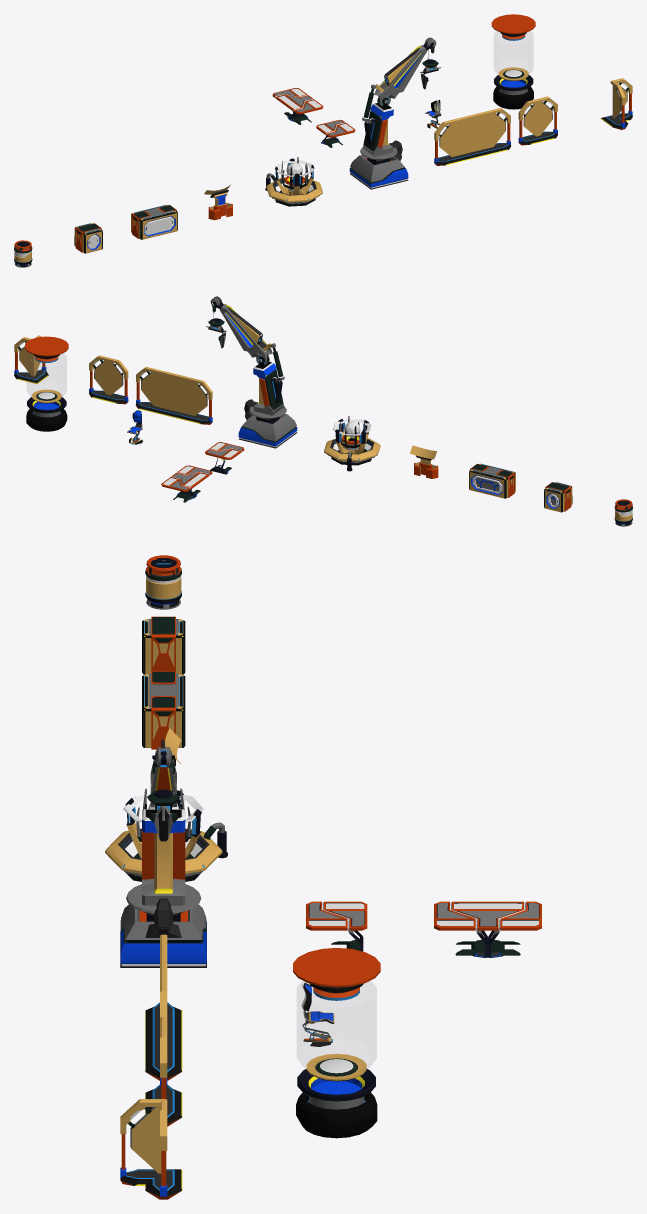
Rendered from ColonyFactory_Deco00.FBX.
3 renders of one model, top to bottom at view 1: azimuth 30°, elevation 25°; view 2: azimuth 150°, elevation 25°; view 3: azimuth 270°, elevation 25°, orthographic. The views are drawn at different scales.
Parts seen in each view (by area): view 1: Cylinder016, Box003, Box010, Cylinder011, Box014, Cylinder001, Box011, Box019, Box015, Box002, Box006, Box018 (+4 smaller); view 2: Cylinder016, Box003, Box010, Cylinder011, Box014, Cylinder001, Box011, Box019, Box015, Box002, Box006, Box018 (+4 smaller); view 3: Cylinder016, Box010, Box019, Box011, Cylinder011, Box014, Box015, Box001, Box018, Cylinder014, Box008, Box009 (+2 smaller).
Part boxes in pixels (x1,y1,x2,y2): Cylinder016: [491, 14, 535, 109]; Box003: [440, 113, 505, 156]; Box010: [349, 140, 408, 189]; Cylinder011: [266, 158, 322, 206]; Box014: [131, 204, 177, 239]; Cylinder001: [374, 41, 433, 106]; Box011: [363, 99, 393, 156]; Box019: [272, 88, 323, 124]; Box015: [74, 223, 102, 253]; Box002: [434, 108, 510, 163]; Box006: [524, 102, 551, 136]; Box018: [316, 119, 355, 147]; Cylinder016: [25, 336, 68, 431]; Box003: [141, 372, 206, 415]; Box010: [238, 399, 297, 448]; Cylinder011: [324, 419, 380, 465]; Box014: [469, 463, 515, 498]; Cylinder001: [213, 300, 272, 365]; Box011: [253, 358, 283, 415]; Box019: [161, 465, 212, 502]; Box015: [544, 482, 572, 512]; Box002: [136, 367, 212, 422]; Box006: [95, 361, 122, 395]; Box018: [205, 442, 244, 474]; Cylinder016: [293, 948, 380, 1138]; Box010: [120, 898, 206, 967]; Box019: [434, 901, 541, 957]; Box011: [142, 805, 185, 905]; Cylinder011: [105, 790, 222, 881]; Box014: [142, 671, 185, 749]; Box015: [142, 616, 185, 674]; Box001: [145, 1002, 182, 1080]; Box018: [306, 901, 367, 951]; Cylinder014: [145, 555, 181, 609]; Box008: [120, 1099, 167, 1196]; Box009: [131, 1107, 161, 1173].
Bounding box in the file's own units: 329 × 65.32 × 101.
